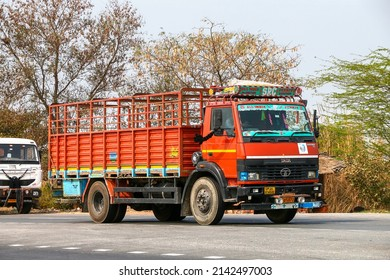truck: (46, 82, 326, 226), (1, 136, 43, 214)
